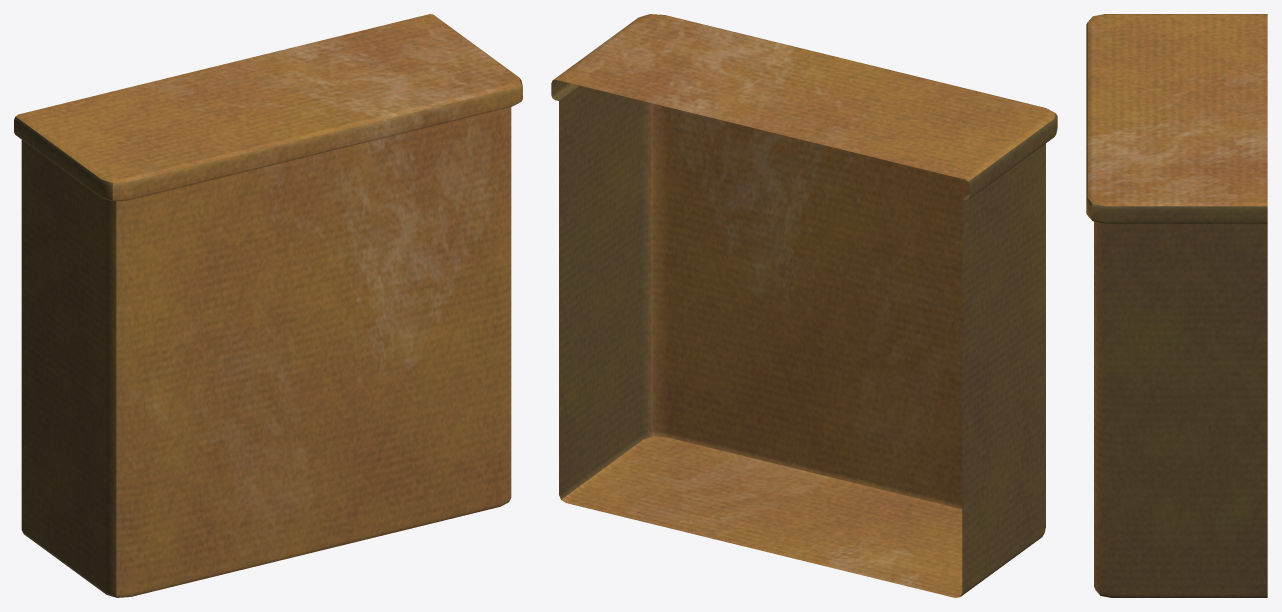
The model's file is JimenLow_D.fbx.
3 views of the same model, side by side, from view 1: azimuth 30°, elevation 25°; view 2: azimuth 150°, elevation 25°; view 3: azimuth 270°, elevation 25° (orthographic). The views are drawn at different scales.
Visible parts, largest first — view 1: StageLow; view 2: StageLow; view 3: StageLow.
Part boxes in pixels (x1=…): StageLow: x1=14, y1=14, x2=522, y2=597; StageLow: x1=551, y1=14, x2=1057, y2=597; StageLow: x1=1086, y1=14, x2=1267, y2=597.
Bounding box in the file's own units: 13.27 × 12.76 × 5.25.
